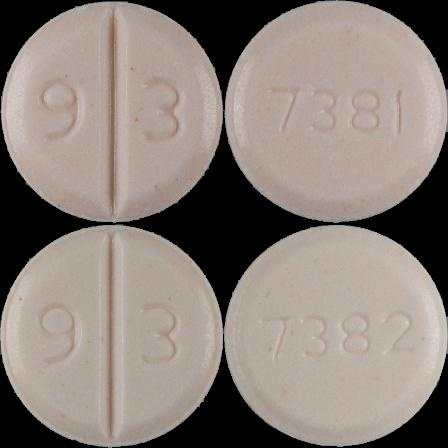0093-7381: (0, 0, 224, 224)
